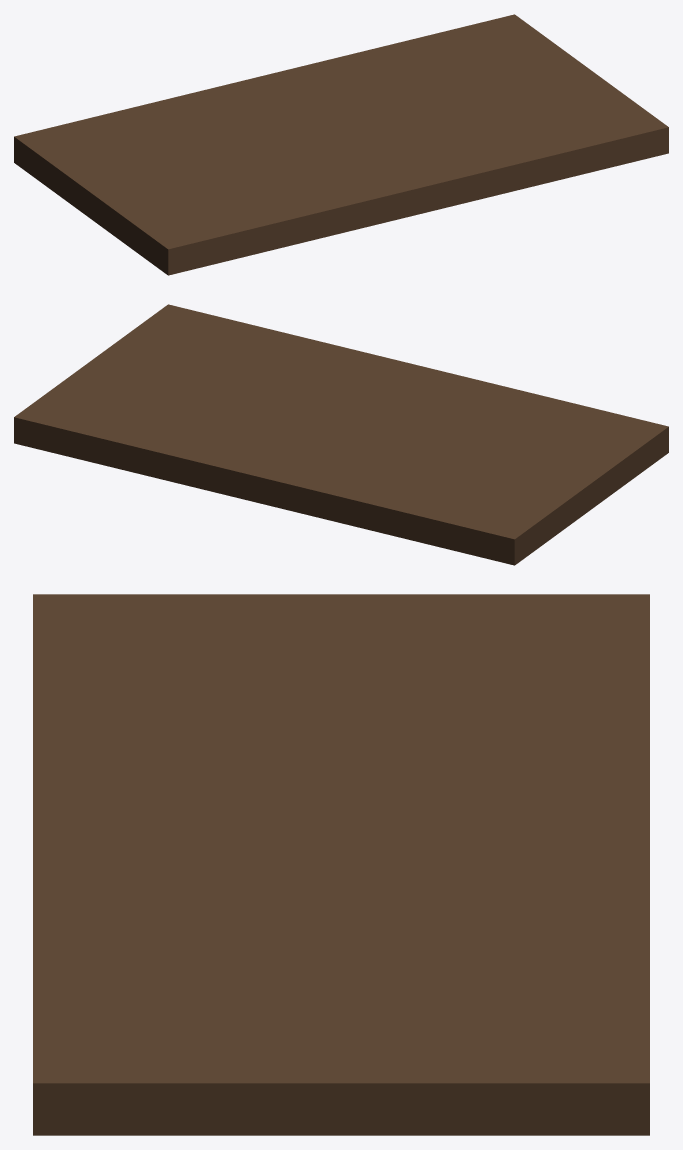
Rendered from singer_riser.glb.
3 renders of one model, top to bottom at view 1: azimuth 30°, elevation 25°; view 2: azimuth 150°, elevation 25°; view 3: azimuth 270°, elevation 25°, orthographic. The views are drawn at different scales.
Visible parts, largest first — view 1: singer_riser_Riser; view 2: singer_riser_Riser; view 3: singer_riser_Riser.
Boxes of the visible parts, left/top/right/bottom form: singer_riser_Riser: left=14, top=14, right=668, bottom=275; singer_riser_Riser: left=14, top=304, right=668, bottom=565; singer_riser_Riser: left=33, top=594, right=649, bottom=1135.
Bounding box in the file's own units: 3 × 0.15 × 1.6.
